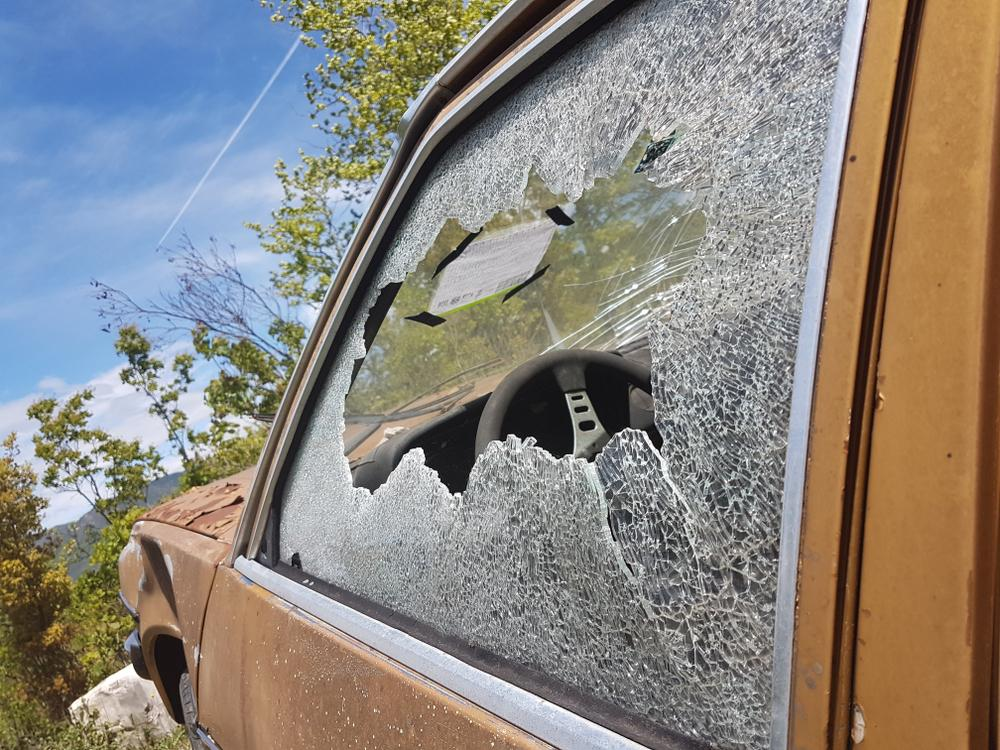glass shatter: (280, 0, 850, 750)
